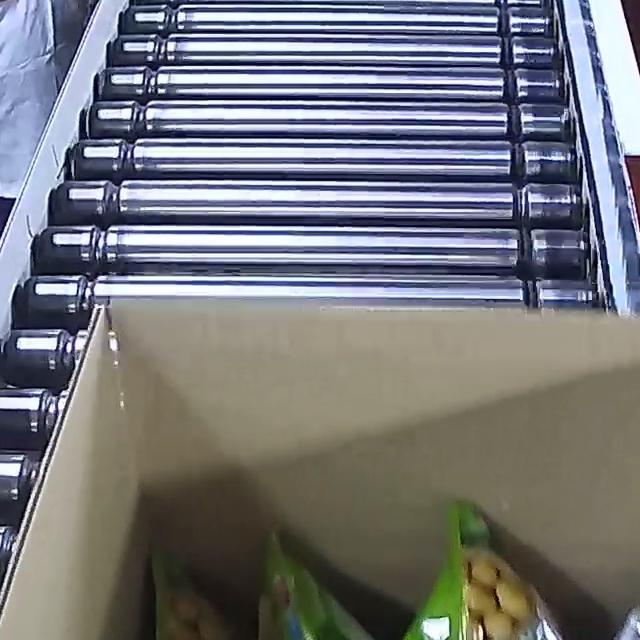yogurt: (147, 487, 640, 640)
